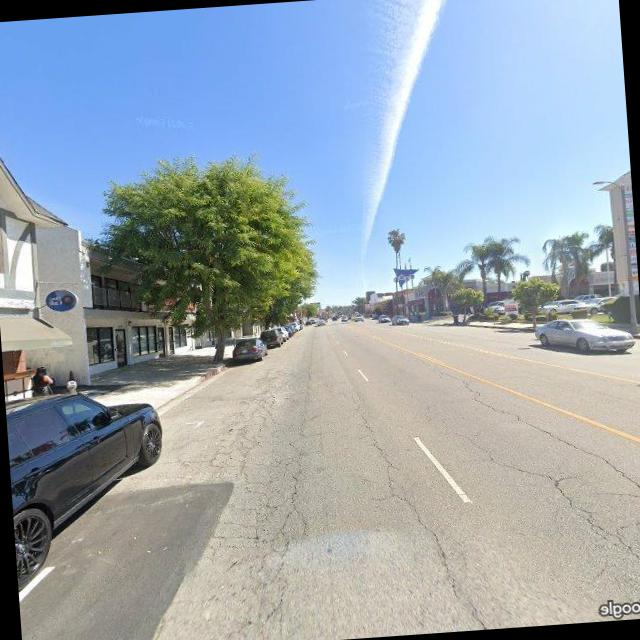crack: (442, 375, 640, 599), (182, 387, 335, 640), (348, 388, 478, 630)
